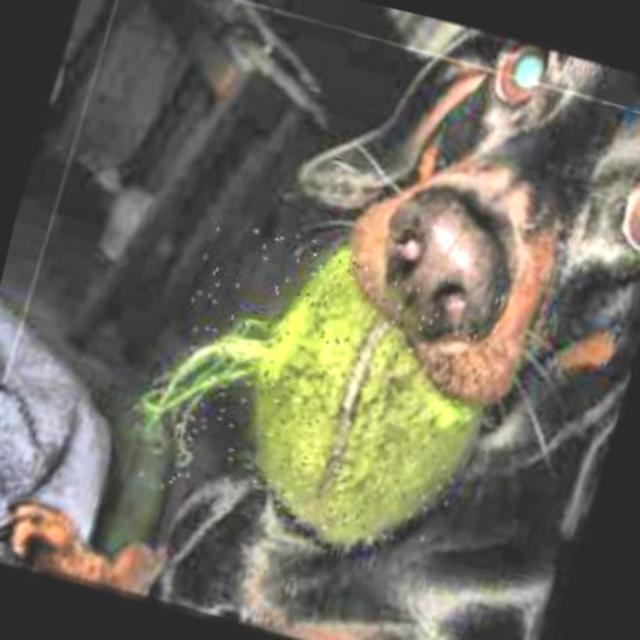tennis-ball: (130, 204, 515, 574)
